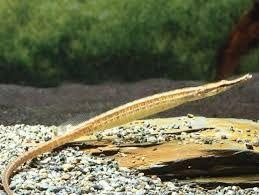Long-Snouted Pipefish: (17, 72, 258, 195)
